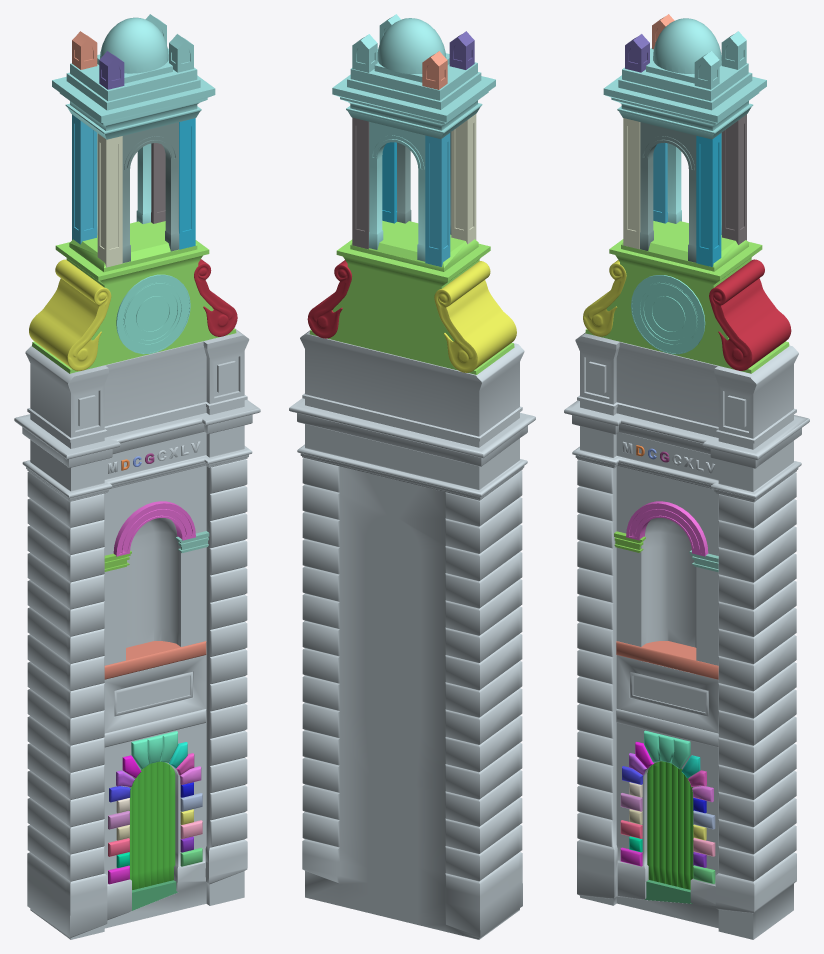
The picture shows the model from 3 angles, left to right: view 1: azimuth 30°, elevation 25°; view 2: azimuth 150°, elevation 25°; view 3: azimuth 330°, elevation 25°; orthographic projection.
Parts seen in each view (by area): view 1: Object_2, Object_9.453, split_parent_39, Object_8, Object_9, Object_9.091, Object_12.018, Object_10.008, Object_10.086, Object_10.034, Object_9.381, Object_3 (+6 smaller); view 2: Object_2, Object_9.453, split_parent_39, Object_8, Object_10.086, Object_10.008, Object_10.060, Object_8.001, Object_12.018, Object_10.034, Object_7.228, Object_7.132; view 3: Object_2, Object_9.453, split_parent_39, Object_8.001, Object_9, Object_9.091, Object_12.018, Object_10.034, Object_10.060, Object_10.008, Object_9.381, Object_3 (+5 smaller).
Part boxes in pixels (left/top/right/bottom): Object_2: left=14, top=328, right=260, bottom=939; Object_9.453: left=52, top=14, right=215, bottom=235; split_parent_39: left=32, top=221, right=236, bottom=373; Object_8: left=29, top=259, right=111, bottom=370; Object_9: left=129, top=761, right=175, bottom=889; Object_9.091: left=116, top=274, right=190, bottom=354; Object_12.018: left=122, top=122, right=179, bottom=262; Object_10.008: left=97, top=133, right=122, bottom=267; Object_10.086: left=72, top=114, right=96, bottom=244; Object_10.034: left=179, top=118, right=195, bottom=249; Object_9.381: left=104, top=641, right=206, bottom=679; Object_3: left=113, top=501, right=195, bottom=556; Object_2: left=289, top=330, right=535, bottom=939; Object_9.453: left=332, top=14, right=495, bottom=261; split_parent_39: left=309, top=220, right=514, bottom=374; Object_8: left=434, top=261, right=516, bottom=372; Object_10.086: left=425, top=133, right=450, bottom=266; Object_10.008: left=451, top=114, right=476, bottom=244; Object_10.060: left=352, top=117, right=369, bottom=249; Object_8.001: left=307, top=260, right=352, bottom=338; Object_12.018: left=397, top=132, right=451, bottom=234; Object_10.034: left=382, top=142, right=396, bottom=223; Object_7.228: left=422, top=51, right=447, bottom=89; Object_7.132: left=449, top=31, right=474, bottom=69; Object_2: left=564, top=333, right=809, bottom=939; Object_9.453: left=603, top=18, right=766, bottom=234; split_parent_39: left=585, top=221, right=789, bottom=373; Object_8.001: left=709, top=259, right=791, bottom=370; Object_9: left=647, top=761, right=693, bottom=889; Object_9.091: left=631, top=275, right=705, bottom=354; Object_12.018: left=640, top=122, right=696, bottom=262; Object_10.034: left=696, top=133, right=721, bottom=266; Object_10.060: left=722, top=114, right=746, bottom=244; Object_10.008: left=623, top=118, right=640, bottom=249; Object_9.381: left=616, top=641, right=718, bottom=679; Object_3: left=626, top=501, right=708, bottom=556.
Bounding box in the file's own units: 0.2297 × 1 × 0.1073.
